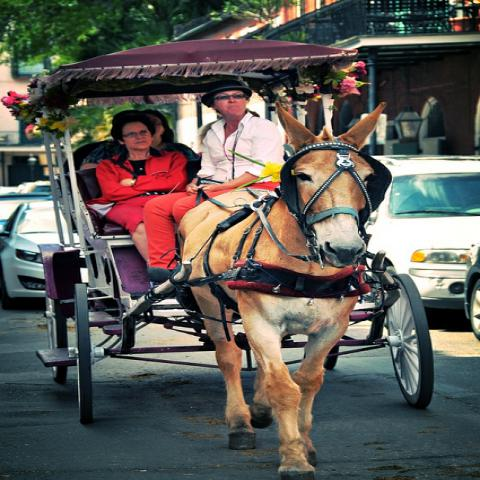car: (362, 153, 479, 321), (0, 200, 64, 298), (459, 272, 478, 340), (12, 178, 52, 194)
